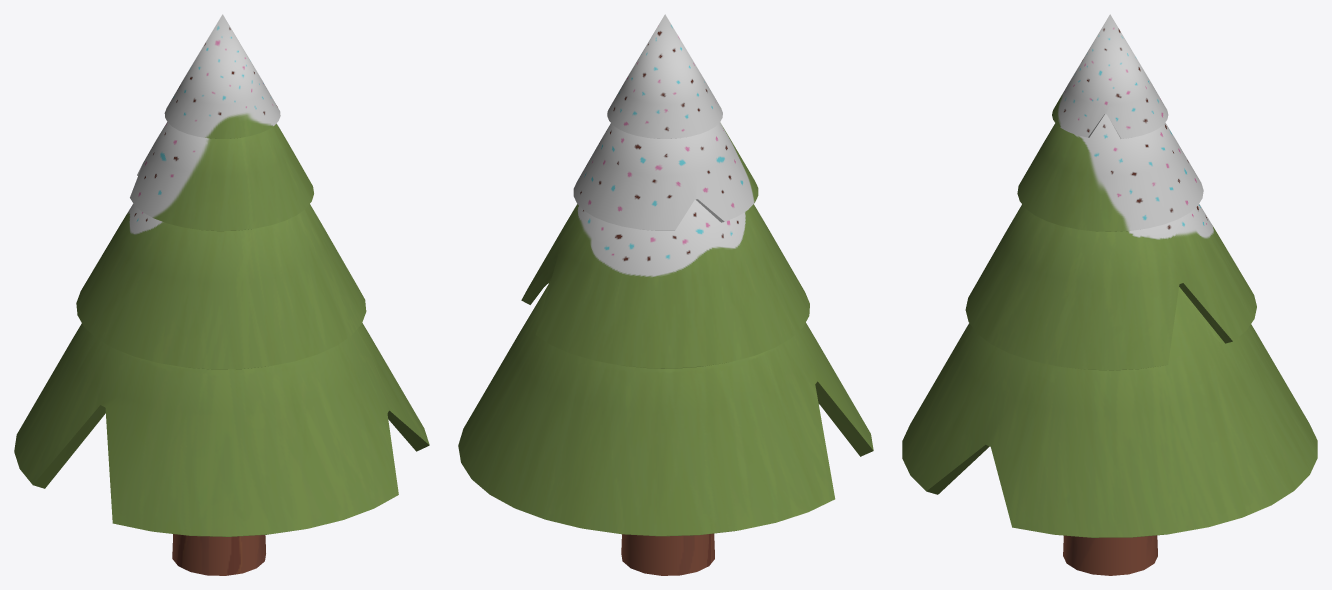
The model's file is tree_2.fbx.
3 renders of one model, left to right at view 1: azimuth 30°, elevation 25°; view 2: azimuth 150°, elevation 25°; view 3: azimuth 270°, elevation 25°, orthographic.
Parts seen in each view (by area): view 1: tree_2; view 2: tree_2; view 3: tree_2.
Part boxes in pixels (x1,y1,x2,y2): tree_2: [14, 14, 429, 575]; tree_2: [458, 14, 873, 575]; tree_2: [902, 14, 1317, 575].
Bounding box in the file's own units: 874 × 1261 × 874.
